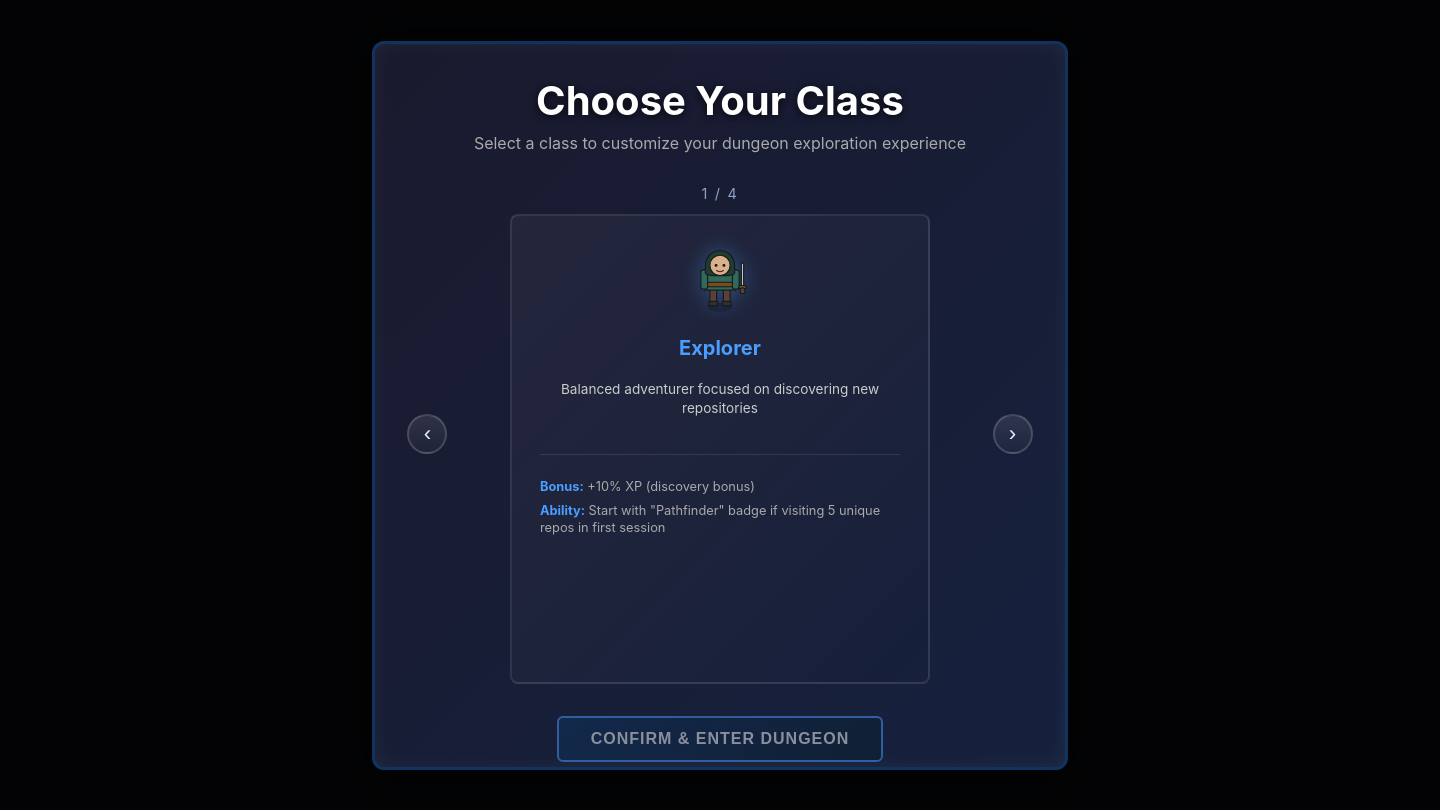
Test: CharacterSelect › should scroll to the next class
Click the button named "show next class".
click(1013, 434)  # box [993, 414, 1033, 454]
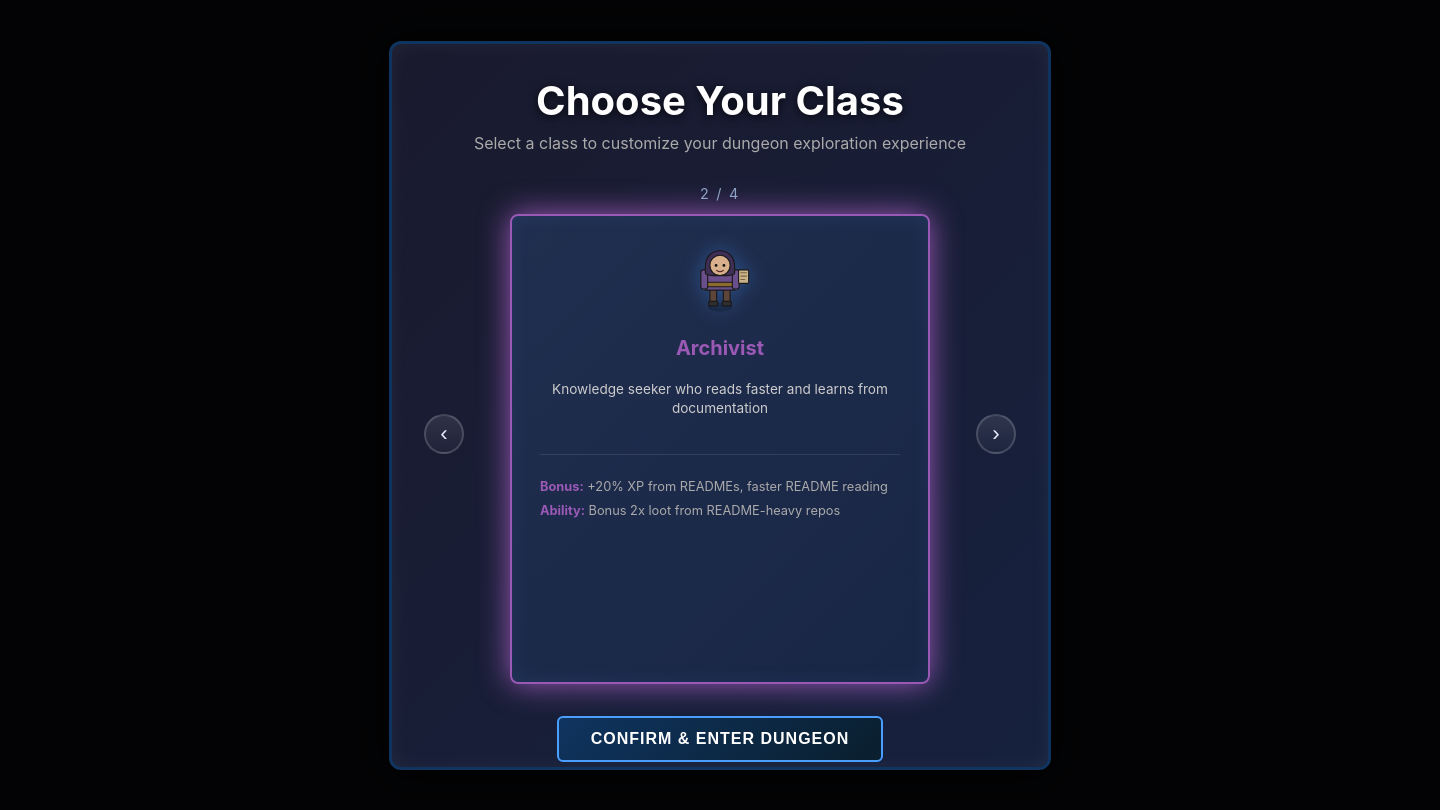
Result: the text "Archivist" is shown at [676, 336, 764, 360]
Result: the text "Knowledge seeker" is shown at [552, 380, 888, 416]
